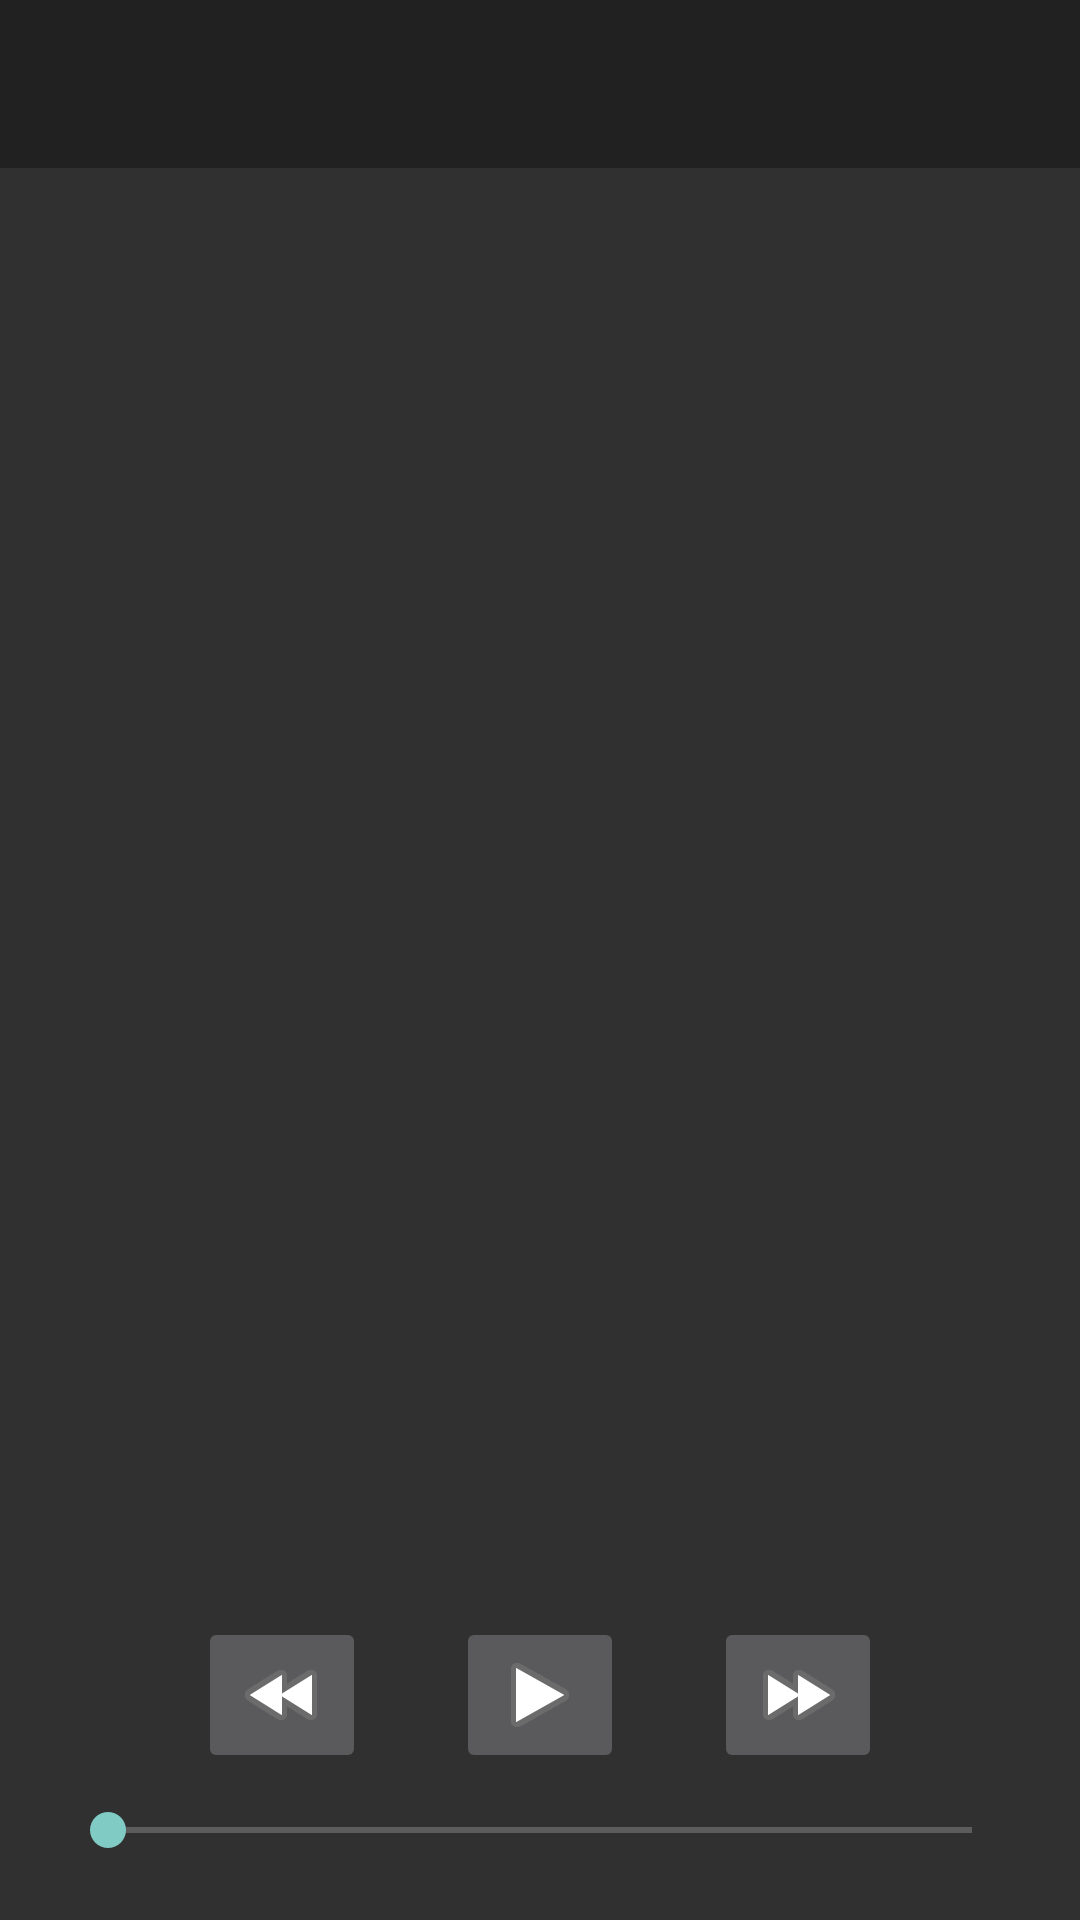

Named icons in this screenshot (1080 × 1920) and their bounding boxes, (x1, y1, x2, y2):
play: (468, 1635, 612, 1755)
rew: (210, 1635, 354, 1755)
